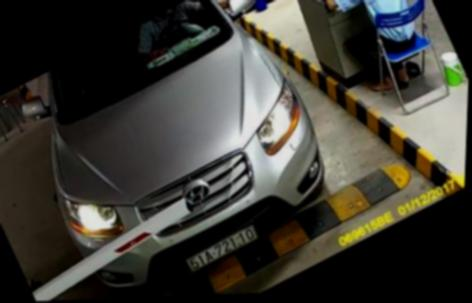License_Plate: (171, 220, 270, 279)
